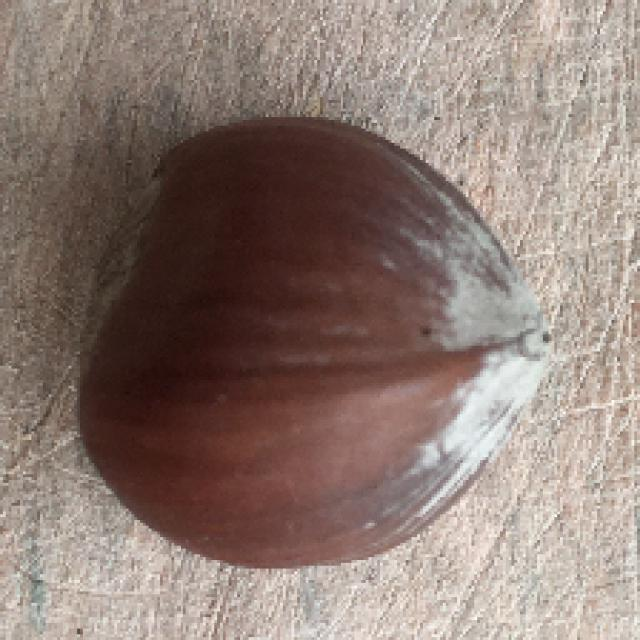DamagedHazelnut: (78, 119, 555, 573)
